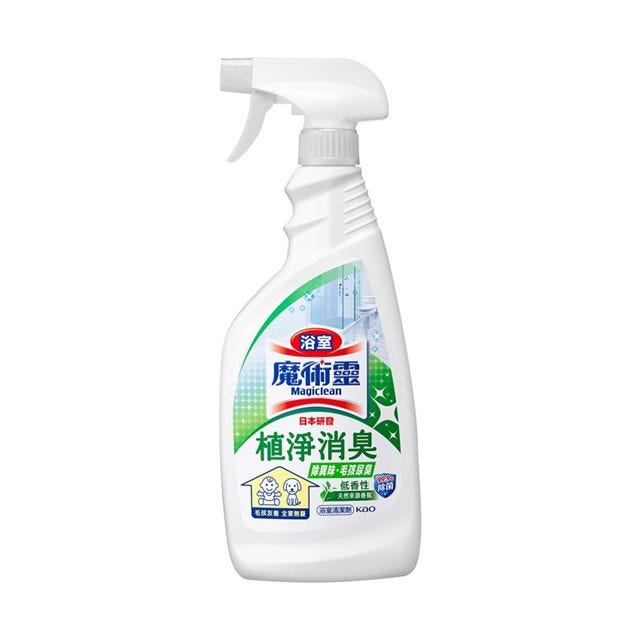cleaner: (191, 50, 430, 585)
